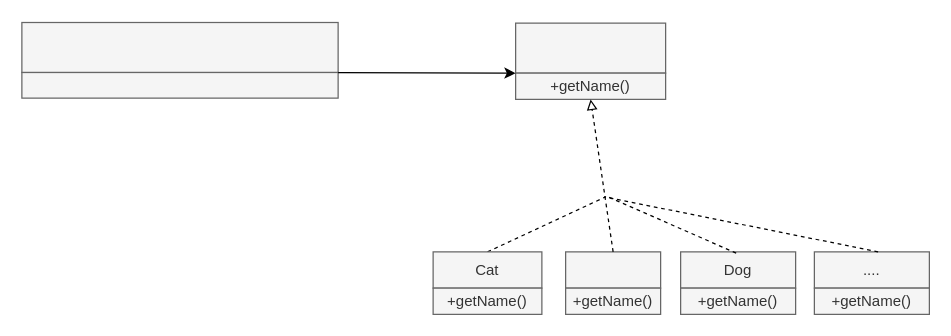
This 951x336 diagram has some shape labels left out. Each missing label, with the centre of its shape:
+createAnimal(string type): Animal: the point at 179,84
<< interface >> Animal: the point at 590,47
<< interface>> AnimalFactory: the point at 179,46
Lion: the point at 612,269
